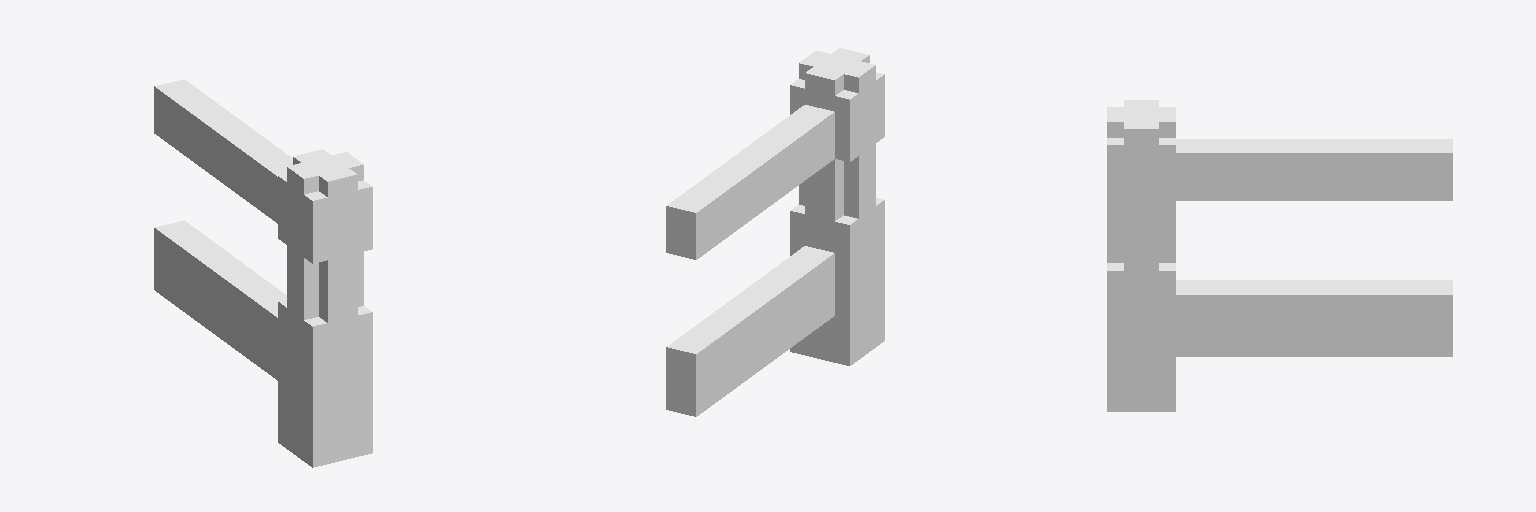
Rendered from fence_part_1.obj.
3 views of the same model, side by side, from view 1: azimuth 30°, elevation 25°; view 2: azimuth 150°, elevation 25°; view 3: azimuth 270°, elevation 25° (orthographic).
Parts seen in each view (by area): view 1: object 1; view 2: object 1; view 3: object 1.
Boxes of the visible parts, x1=… form: object 1: x1=154, y1=79, x2=372, y2=467; object 1: x1=666, y1=48, x2=884, y2=416; object 1: x1=1107, y1=100, x2=1452, y2=411.
Bounding box in the file's own units: 0.4 × 1.8 × 2.